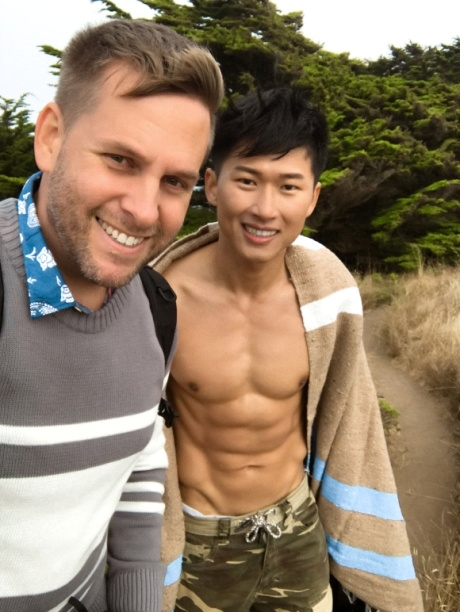bare: (57, 185, 193, 289), (213, 197, 314, 267)
